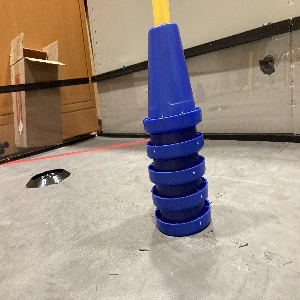Blue_5: (137, 18, 215, 241)
